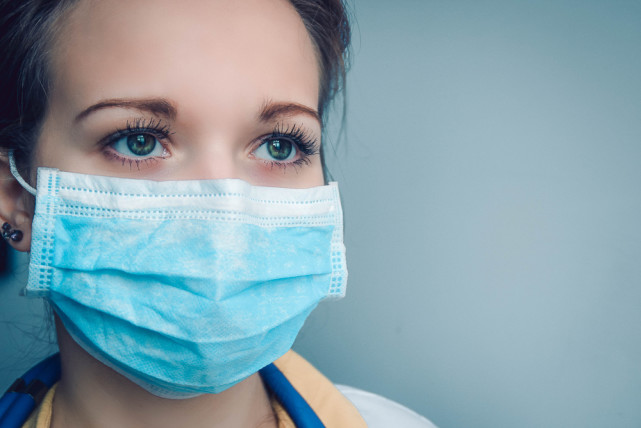mask: (41, 2, 343, 397)
